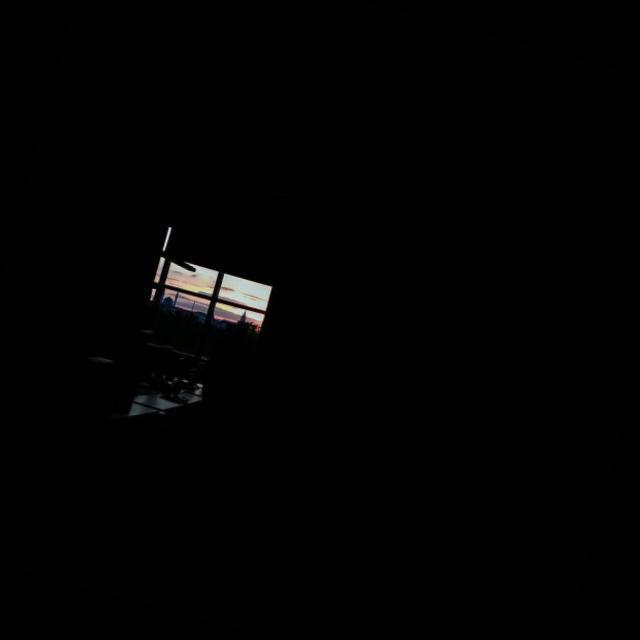on: (129, 232, 308, 332)
